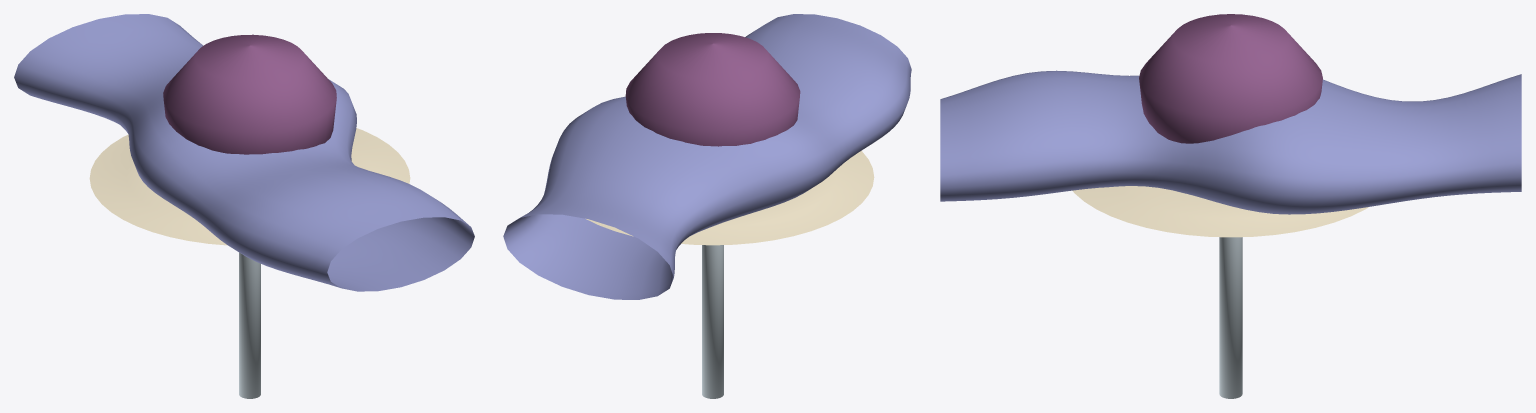
File: props.fbx
3 views of the same model, side by side, from view 1: azimuth 30°, elevation 25°; view 2: azimuth 150°, elevation 25°; view 3: azimuth 270°, elevation 25° (orthographic). The views are drawn at different scales.
Parts seen in each view (by area): view 1: Varix, BandNodule, Ulcer, WashNozzle; view 2: Varix, BandNodule, Ulcer, WashNozzle; view 3: Varix, BandNodule, Ulcer, WashNozzle.
Boxes of the visible parts, left/top/right/bottom form: Varix: left=14, top=14, right=474, bottom=291; BandNodule: left=163, top=34, right=336, bottom=154; Ulcer: left=89, top=128, right=410, bottom=245; WashNozzle: left=239, top=252, right=260, bottom=398; Varix: left=503, top=14, right=911, bottom=299; BandNodule: left=625, top=33, right=800, bottom=146; Ulcer: left=585, top=151, right=874, bottom=245; WashNozzle: left=702, top=245, right=723, bottom=398; Varix: left=940, top=70, right=1521, bottom=214; BandNodule: left=1139, top=14, right=1322, bottom=143; Ulcer: left=1072, top=186, right=1368, bottom=237; WashNozzle: left=1219, top=237, right=1242, bottom=398.
Bounding box in the file's own units: 3.5 × 4.2 × 6.
